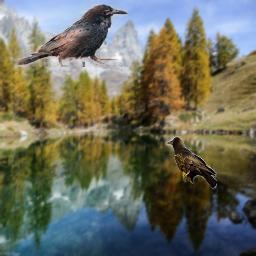Crow: (18, 4, 128, 67), (166, 135, 217, 190)
